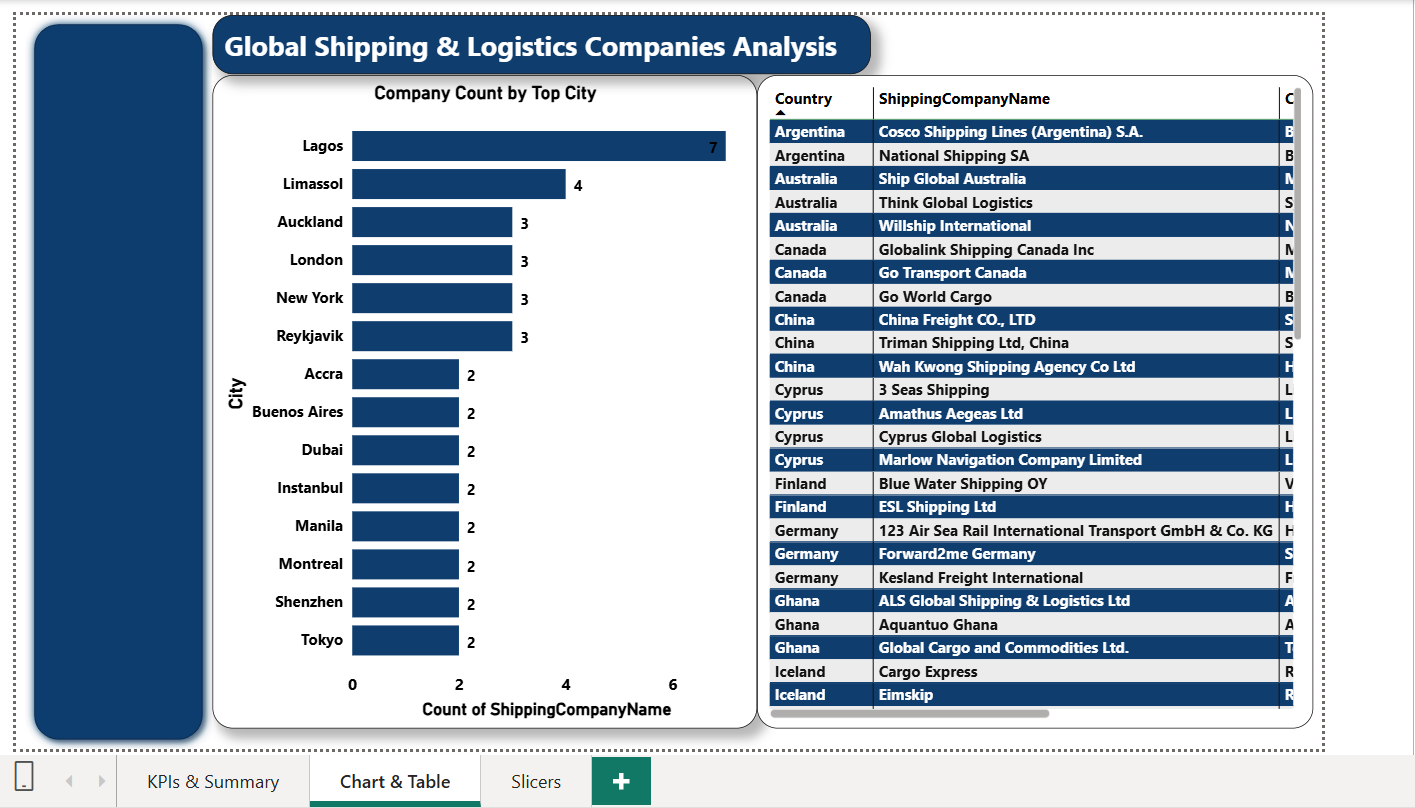

This screenshot's page, from the dashboard's own definition file:
{"tool":"powerbi","page":{"name":"Chart & Table","canvas":[1280,720],"ordinal":1},"visuals":[{"type":"shape","box":[9.4,0,183.1,719.3],"z":0},{"type":"clusteredBarChart","title":"Company Count by Top City","fields":{"Category":["ShippingCompaniesDatabase.City"],"Y":["CountNonNull(ShippingCompaniesDatabase.ShippingCompanyName)"]},"box":[192.5,58.2,533.9,640.7],"z":1000},{"type":"textbox","box":[192.5,0,645.6,58.2],"z":2000},{"type":"tableEx","fields":{"Values":["ShippingCompaniesDatabase.Country","ShippingCompaniesDatabase.ShippingCompanyName","ShippingCompaniesDatabase.City","ShippingCompaniesDatabase.Phone","ShippingCompaniesDatabase.Website"]},"box":[726.5,58.2,545.3,640.7],"z":3000}]}

Visuals, with their boxes on the page's 1280x720 design canvas (x1, y1, x2, y2). These are canvas units, not pixel positions in the 1415x808 screenshot, which may show the page scaled, cropped or inside an application window:
shape: (9, 0, 192, 719)
"Company Count by Top City" clusteredBarChart: (192, 58, 726, 699)
textbox: (192, 0, 838, 58)
tableEx - ShippingCompaniesDatabase.Country x ShippingCompaniesDatabase.ShippingCompanyName: (726, 58, 1272, 699)
